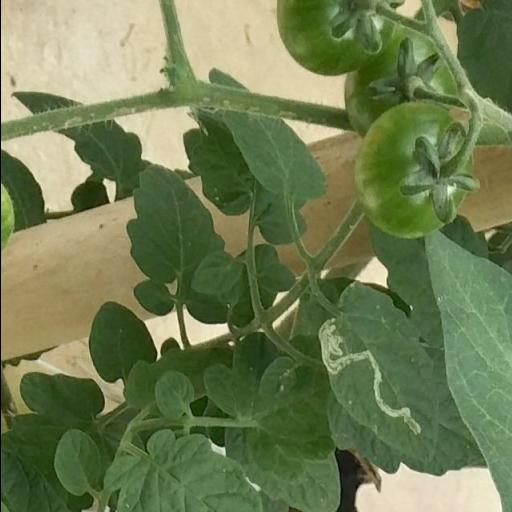disease_tomato: (316, 278, 442, 464)
